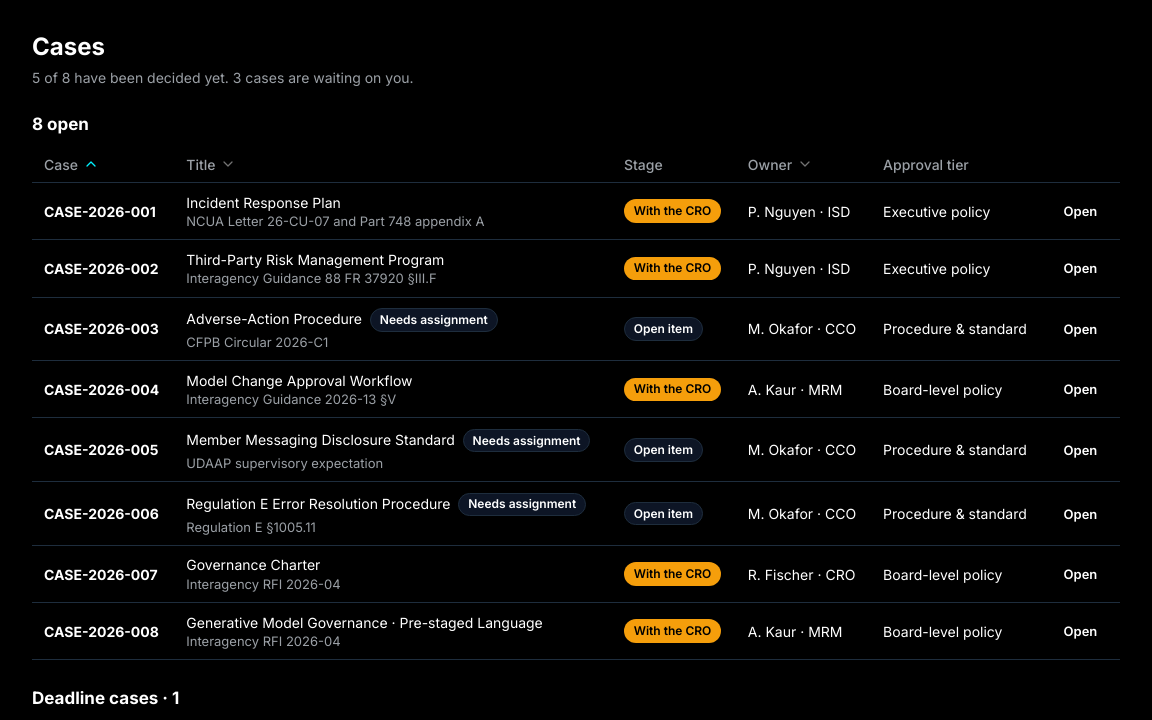
A18 — "View full document" in-drawer swap › AC-A18-6: "View full document" never renders a trailing arrow glyph and is never variant="primary"
Check: the text "CASE-2026-001" is shown, box [44,203,156,220]
What coordinates should you click on to do the following:
click the button "Open" in the row of "CASE-2026-001"
I would click on:
 (1080, 211)
Its box is [1054,198,1106,224].
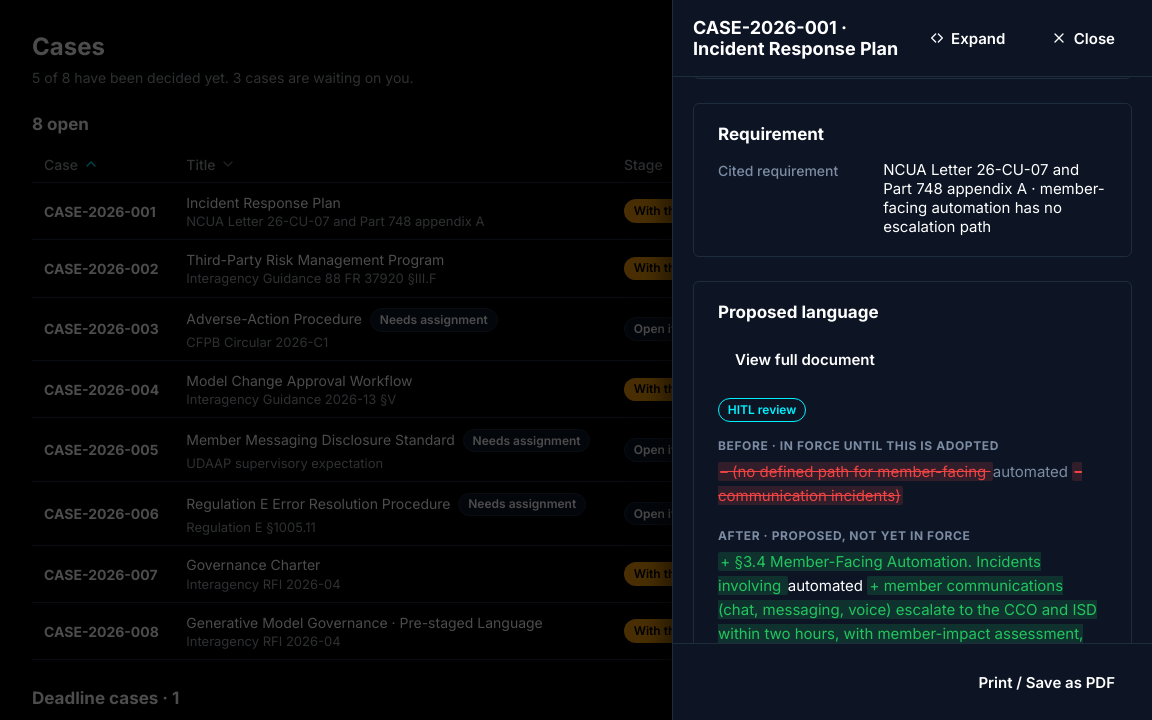
Check: the button "View full document" is shown, box [718,338,892,382]
